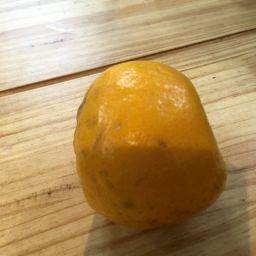Ripe: (74, 61, 226, 227)
